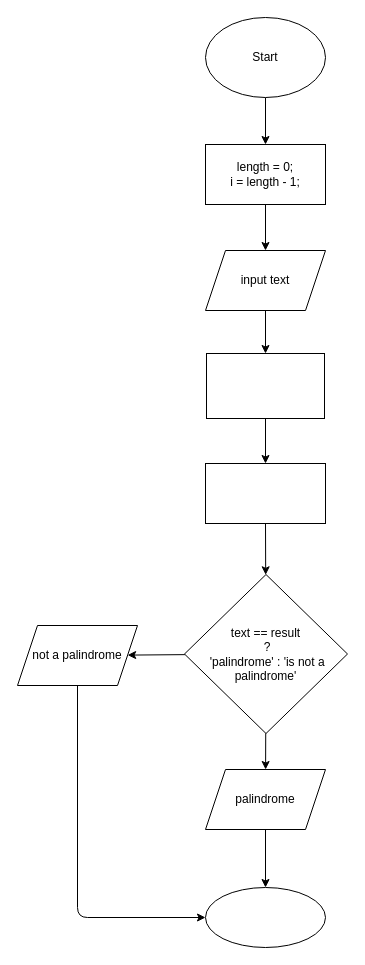
Image size: 365x965. Some labels were removed from this diagram. Each missing label, with the centre of its shape:
"do {lengt++} while(text[length])" goes at (x=265, y=385).
"end" goes at (x=265, y=917).
"for(; i >= 0; i--){ result += text[i]}" goes at (x=265, y=493).
